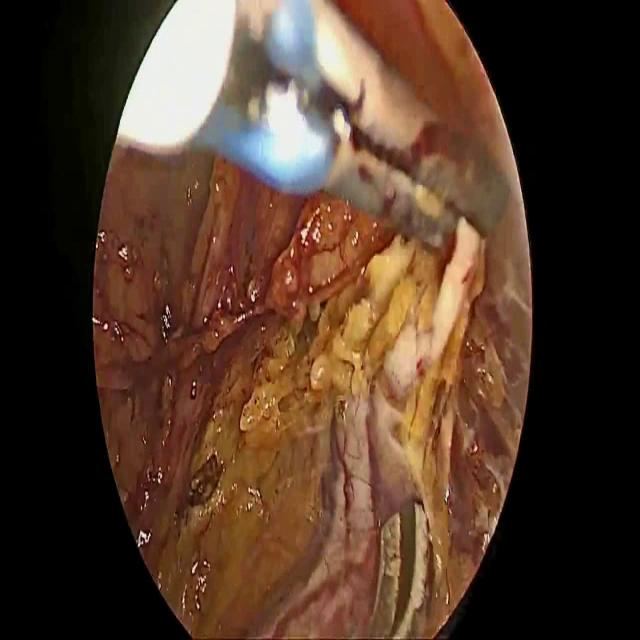surgical-area: (94, 0, 530, 639)
surgical-tool: (116, 0, 508, 251)
